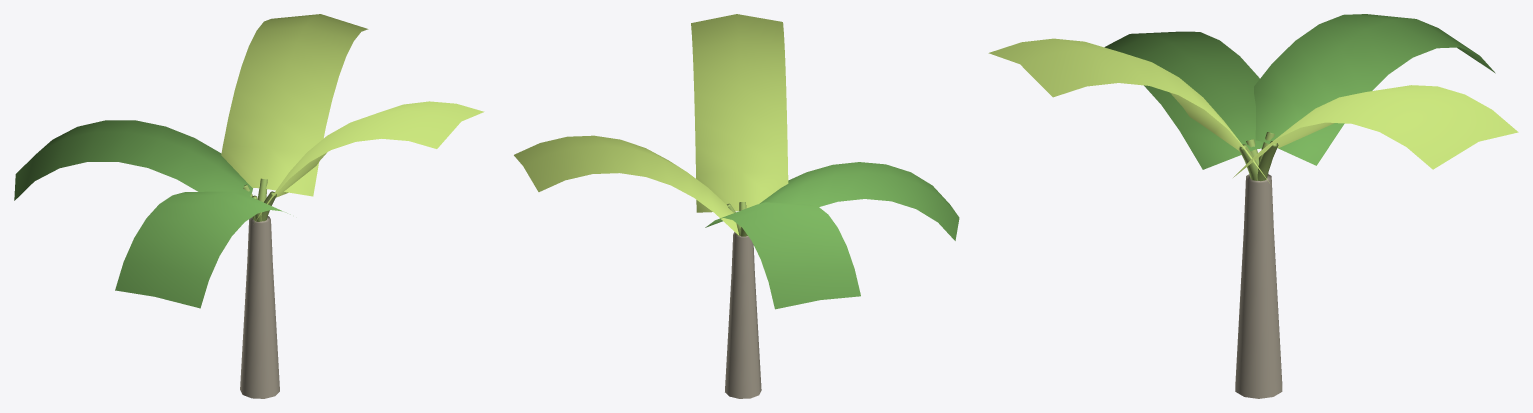
The model's file is plant_broadleaf_0.glb.
3 renders of one model, left to right at view 1: azimuth 30°, elevation 25°; view 2: azimuth 150°, elevation 25°; view 3: azimuth 270°, elevation 25°, orthographic. The views are drawn at different scales.
Parts seen in each view (by area): view 1: plant_broadleaf_0; view 2: plant_broadleaf_0; view 3: plant_broadleaf_0.
Boxes of the visible parts, box(x1,y1,x2,y2) form: plant_broadleaf_0: box(14, 14, 484, 398); plant_broadleaf_0: box(514, 14, 959, 398); plant_broadleaf_0: box(988, 14, 1518, 398).
Bounding box in the file's own units: 3.48 × 2.86 × 3.54.
